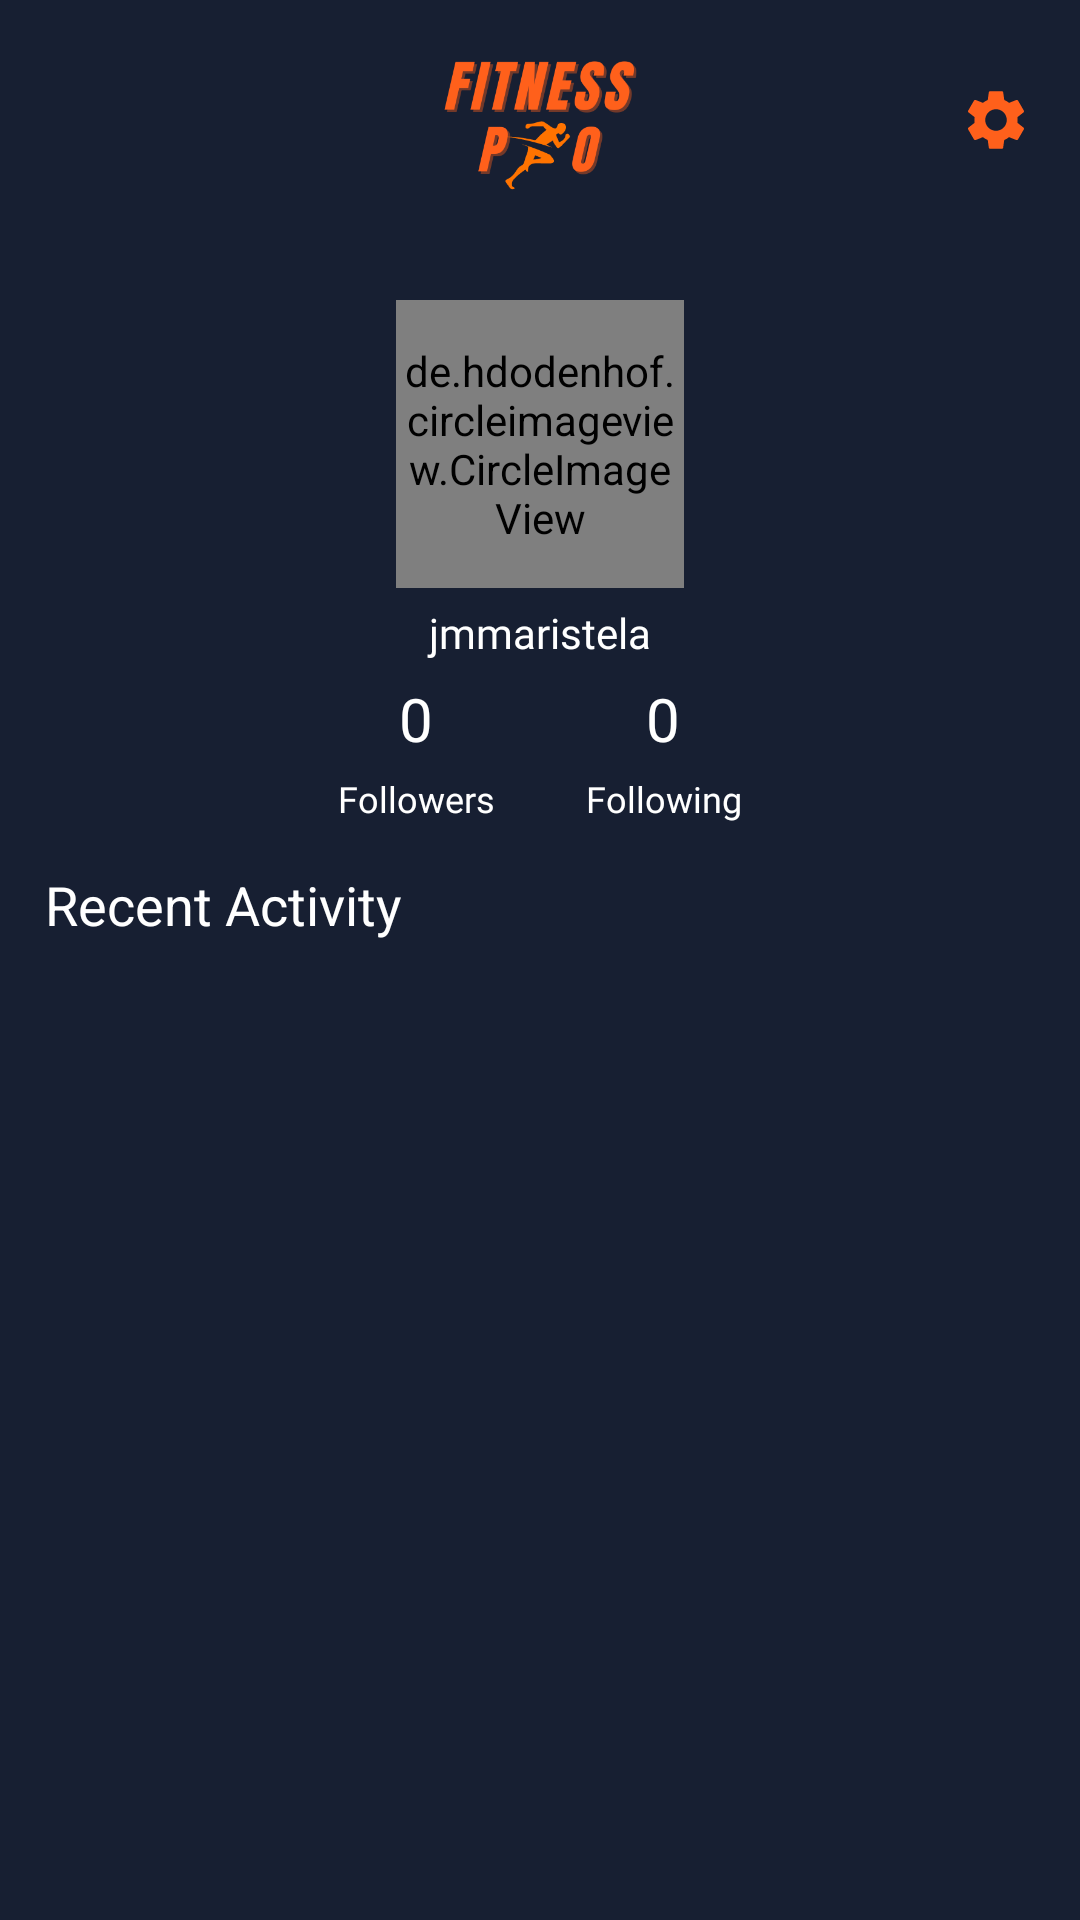

Icons on this 1080x1920 Android screen, each with its box as rect(x1, y1, x2, y2):
settings: rect(968, 91, 1024, 149)
